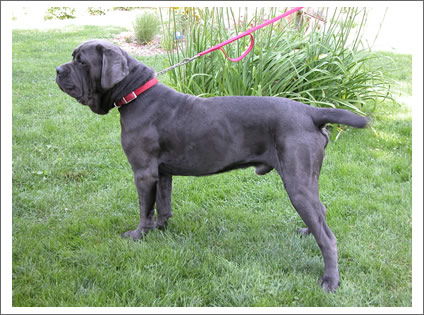neapolitan_mastiff: (54, 38, 368, 289)
